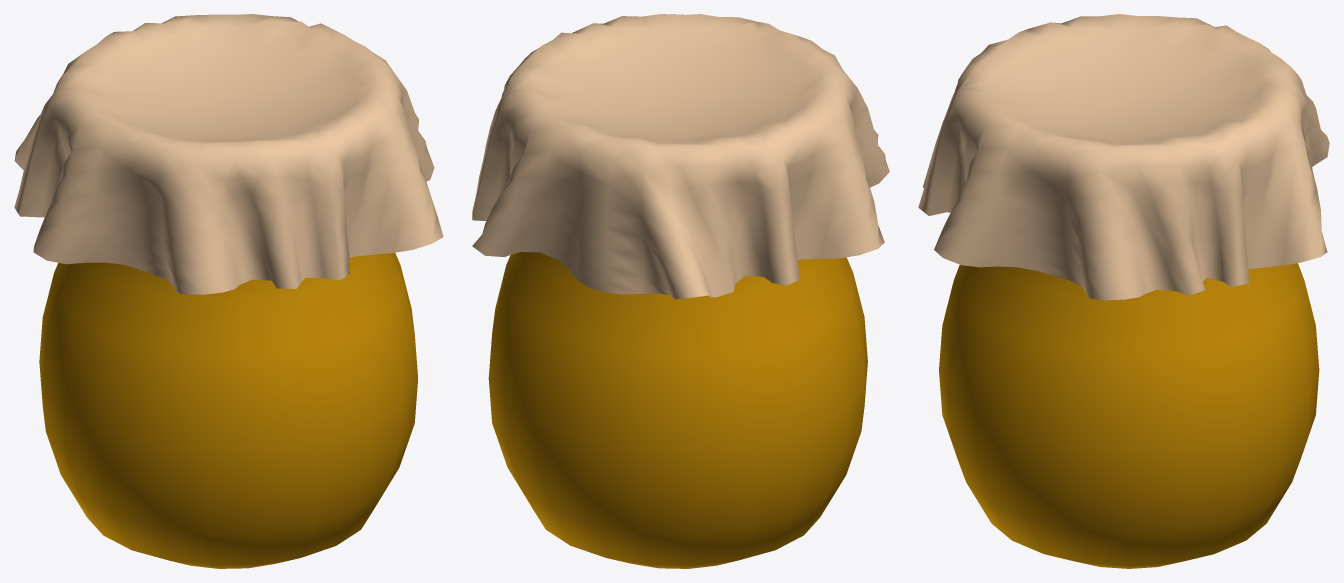
Rendered from MarketUrn.fbx.
The picture shows the model from 3 angles, left to right: view 1: azimuth 30°, elevation 25°; view 2: azimuth 150°, elevation 25°; view 3: azimuth 270°, elevation 25°; orthographic projection.
Visible parts, largest first — view 1: Urn; view 2: Urn; view 3: Urn.
Part boxes in pixels (x1=…): Urn: x1=14, y1=14, x2=443, y2=568; Urn: x1=472, y1=14, x2=889, y2=568; Urn: x1=918, y1=14, x2=1329, y2=568.
Bounding box in the file's own units: 88.65 × 97.82 × 80.8.
